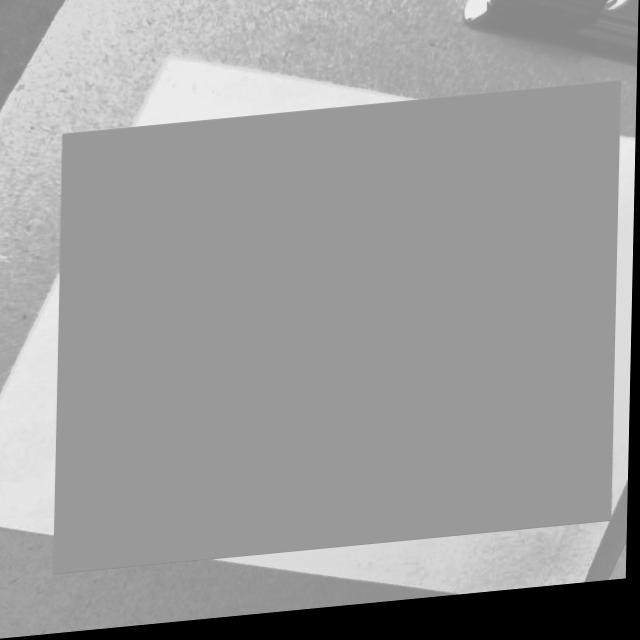qr_code: (56, 93, 622, 575)
